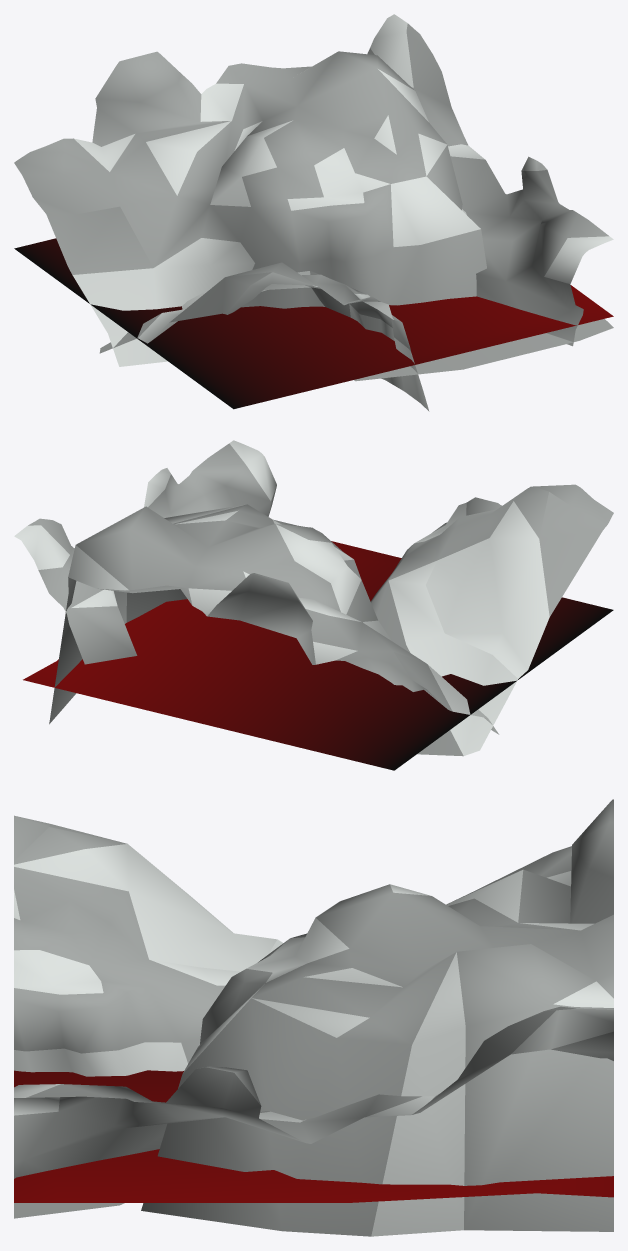
The picture shows the model from 3 angles, top to bottom: view 1: azimuth 30°, elevation 25°; view 2: azimuth 150°, elevation 25°; view 3: azimuth 270°, elevation 25°; orthographic projection. The views are drawn at different scales.
Parts seen in each view (by area): view 1: G:\FFXIV-MapTools\exports\f1f3\bg\ffxiv\fst_f1\fld\f1f3\bgpl (×7); view 2: G:\FFXIV-MapTools\exports\f1f3\bg\ffxiv\fst_f1\fld\f1f3\bgpl (×6); view 3: G:\FFXIV-MapTools\exports\f1f3\bg\ffxiv\fst_f1\fld\f1f3\bgpl (×7).
Boxes of the visible parts, x1,y1,x2,y2 form: G:\FFXIV-MapTools\exports\f1f3\bg\ffxiv\fst_f1\fld\f1f3\bgpl (×7): [14, 14, 613, 411]; G:\FFXIV-MapTools\exports\f1f3\bg\ffxiv\fst_f1\fld\f1f3\bgpl (×6): [14, 440, 613, 770]; G:\FFXIV-MapTools\exports\f1f3\bg\ffxiv\fst_f1\fld\f1f3\bgpl (×7): [14, 799, 613, 1236].
Size of the model in its own units: 128 by 73.36 by 128.
